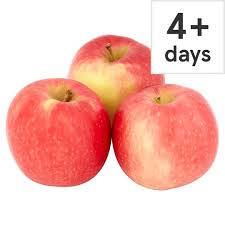apple: (107, 81, 218, 186), (8, 85, 117, 188), (67, 36, 166, 116)
